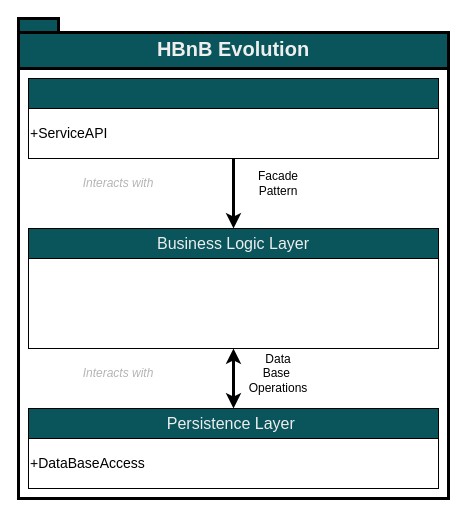
This 467x517 diagram has some shape labels left out. Here are the shapes that lost their labels. From the top down, the centre of each, then its label:
(233,93): " Interface " - Presentation Layer
(233,303): +User +Place +Review +Amenity
